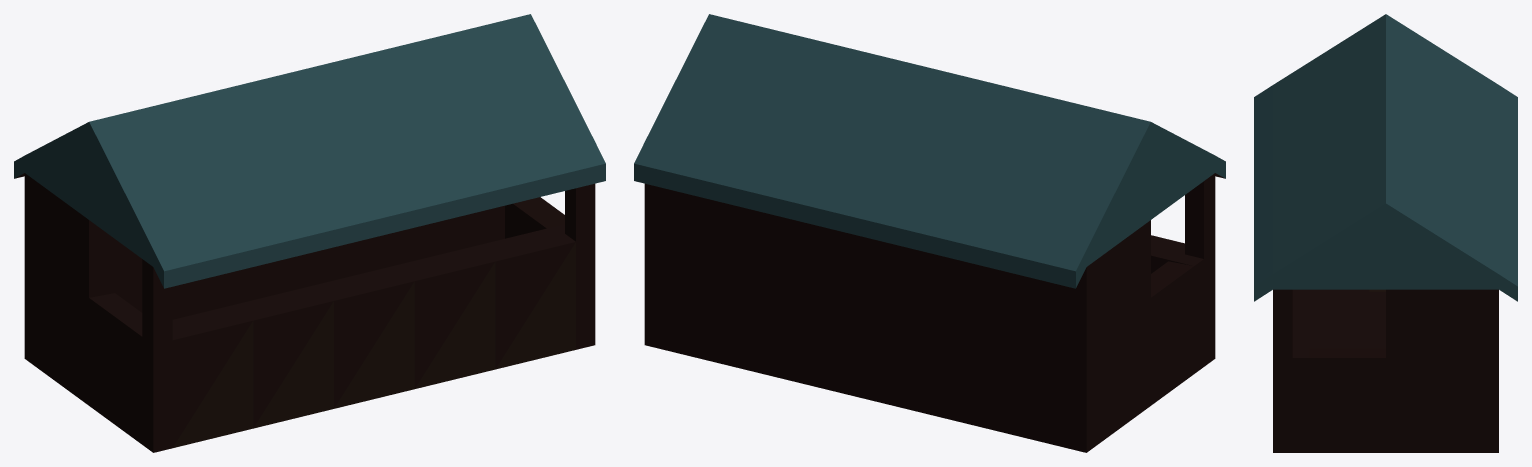
The model's file is shop_2.fbx.
3 views of the same model, side by side, from view 1: azimuth 30°, elevation 25°; view 2: azimuth 150°, elevation 25°; view 3: azimuth 270°, elevation 25° (orthographic). The views are drawn at different scales.
Parts seen in each view (by area): view 1: Cube.010; view 2: Cube.010; view 3: Cube.010.
Part boxes in pixels (x1,y1,x2,y2): Cube.010: [14, 14, 605, 452]; Cube.010: [634, 14, 1225, 452]; Cube.010: [1254, 14, 1517, 452].
Bounding box in the file's own units: 1203 × 753 × 708.
